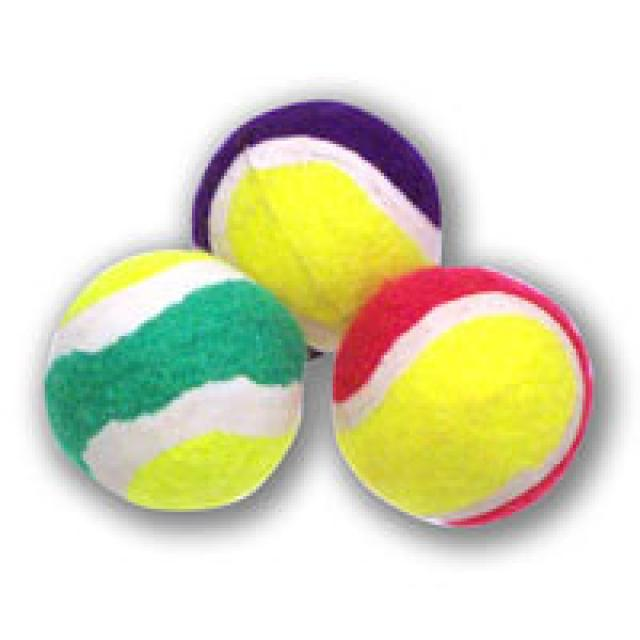Tennis Ball: (42, 250, 310, 515), (330, 266, 595, 531), (186, 102, 442, 358)
